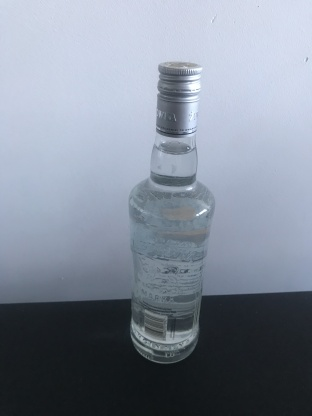nakretka: (153, 58, 204, 140)
